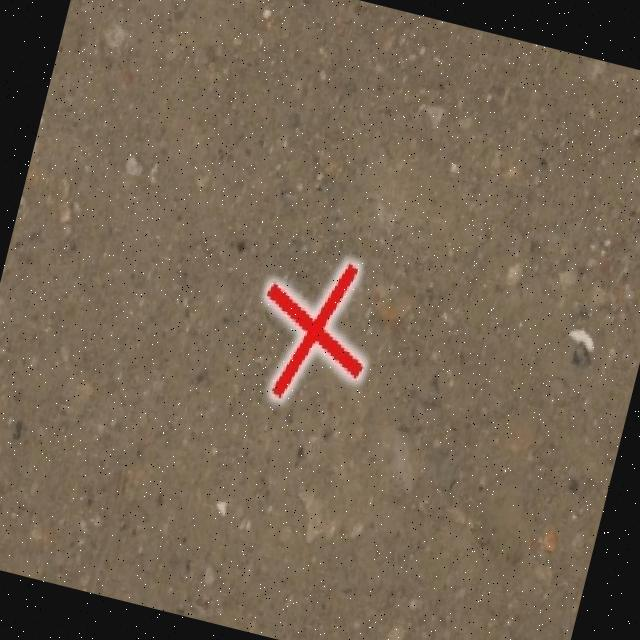x_marker: (242, 244, 384, 413)
